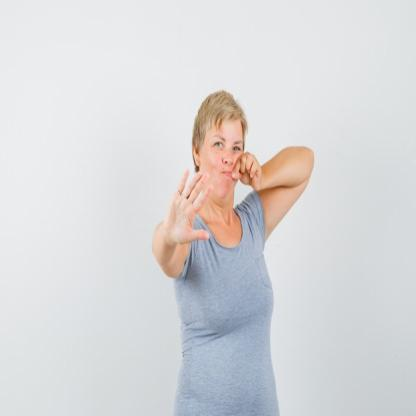stop: (162, 164, 212, 244)
